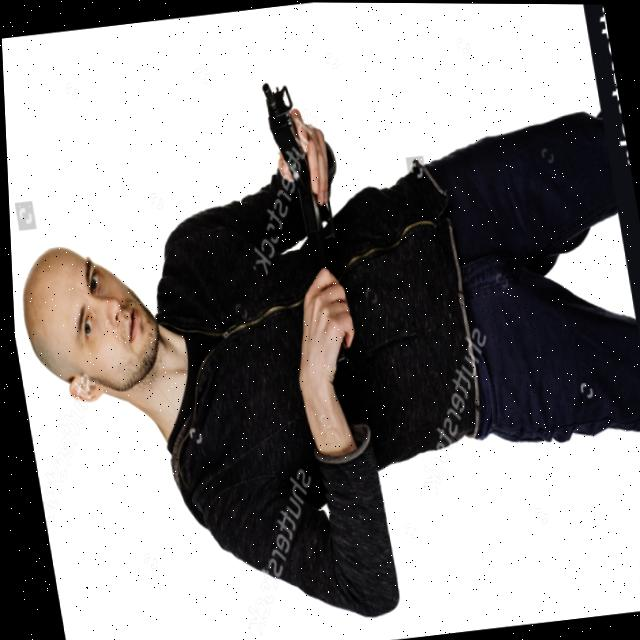firearm: (258, 74, 338, 285)
